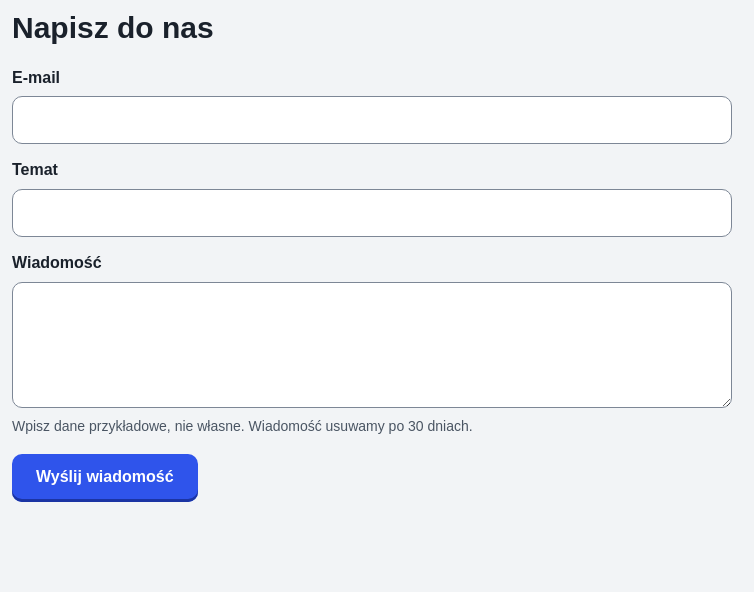
it: ContactForm (F-221) › 422: komunikat bledu, bez generate_lead
The width and height of the screenshot is (754, 592).
Type "ola@taktyl.example" into the field labelled "E-mail" at {"x": 372, "y": 120}, box [12,96,732,144]
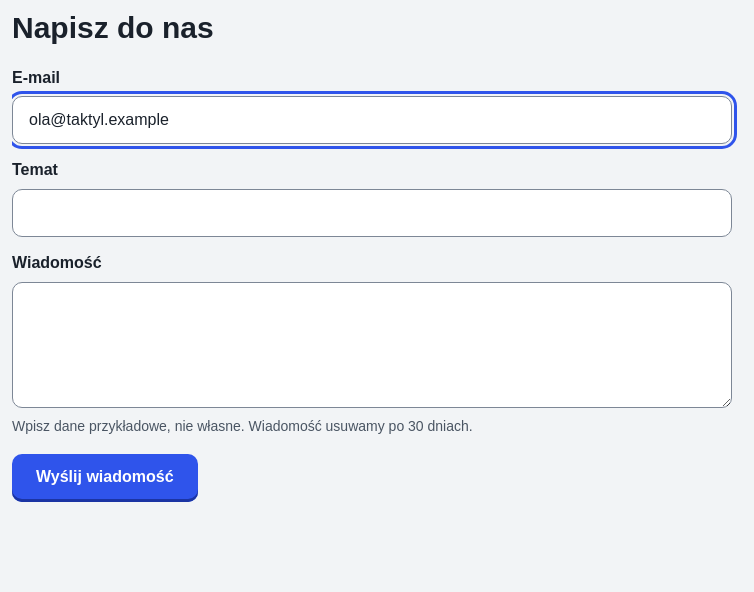
Type "Pytanie o set" into the field labelled "Temat" at {"x": 372, "y": 213}, box [12,189,732,237]
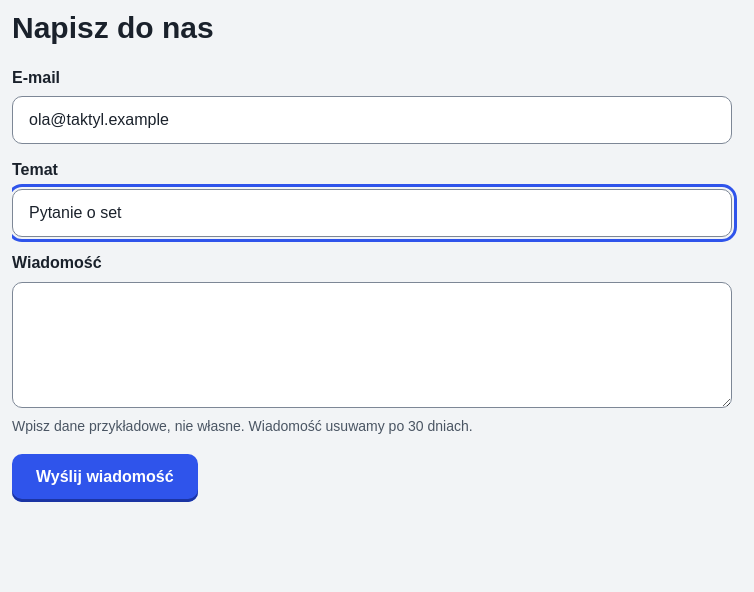
Type "Czy Bazalt 75 ma wersję cichą?" into the text box labelled "Wiadomość" at {"x": 372, "y": 345}, box [12,282,732,408]
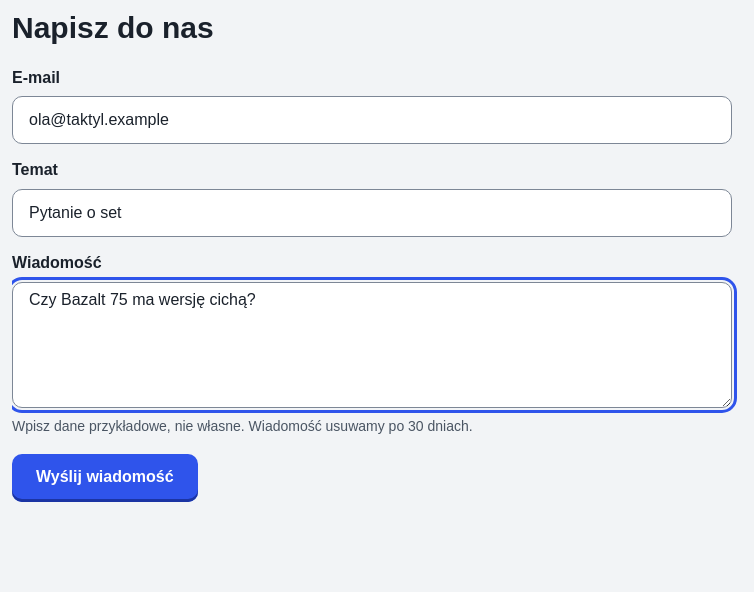
Click the button "Wyślij wiadomość" at {"x": 105, "y": 478}, box [12,454,198,502]
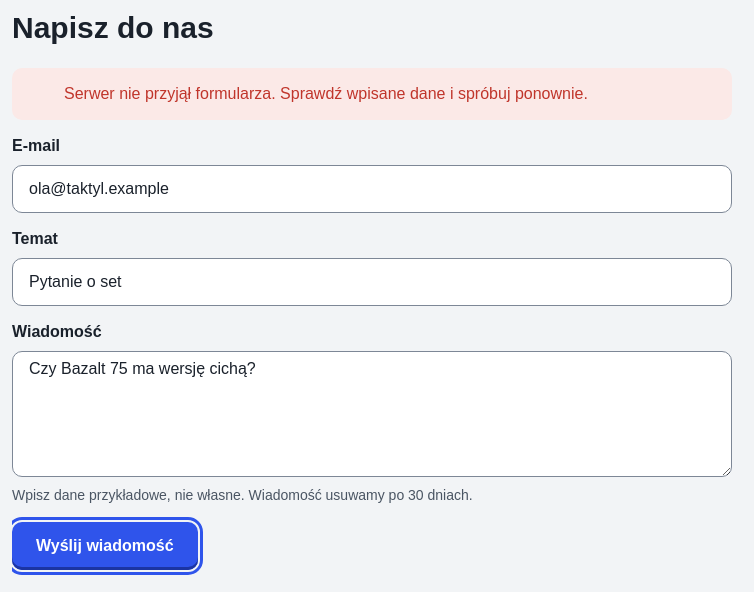
Check: the text "Serwer nie przyjął formularza" is shown, box [64,84,588,102]
